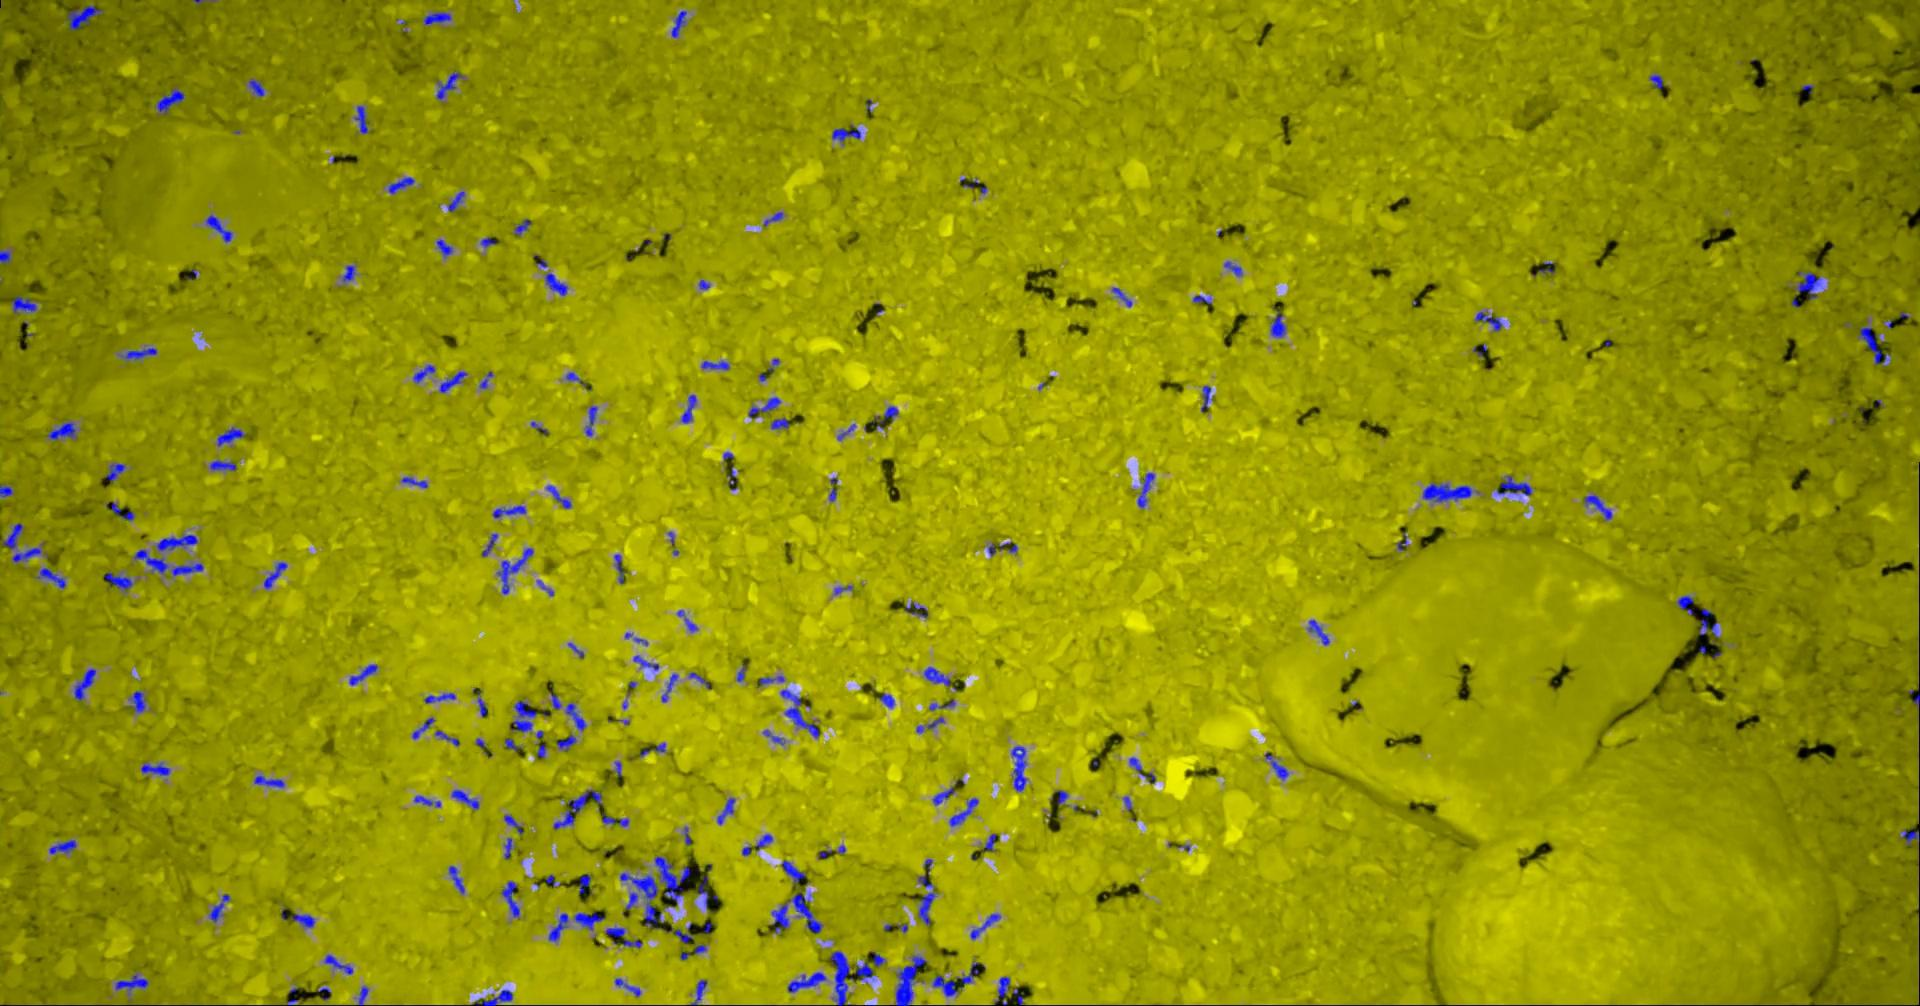ant: (621, 873, 665, 929), (782, 688, 822, 737), (555, 789, 603, 828), (935, 962, 985, 996), (498, 547, 535, 594), (657, 856, 692, 903), (897, 955, 928, 1005), (789, 893, 824, 932), (830, 950, 855, 1005), (1860, 326, 1891, 366), (65, 4, 104, 29), (1423, 483, 1473, 500), (135, 549, 170, 573), (951, 796, 979, 826), (789, 972, 828, 992), (157, 86, 185, 114), (207, 213, 234, 243), (513, 700, 538, 730), (971, 913, 1002, 939), (1012, 746, 1029, 791), (437, 72, 465, 99), (1585, 494, 1613, 520), (1498, 475, 1533, 495), (157, 533, 199, 550), (75, 668, 97, 700), (1130, 757, 1157, 782), (1799, 271, 1823, 298), (698, 875, 719, 907), (872, 405, 899, 429), (1266, 752, 1290, 779), (38, 567, 67, 588), (783, 859, 808, 884), (265, 561, 288, 588), (503, 882, 521, 916), (750, 398, 782, 417), (441, 371, 469, 392), (210, 893, 231, 921), (1700, 608, 1721, 638), (547, 485, 573, 508), (350, 664, 378, 685), (326, 954, 354, 974), (1139, 473, 1156, 507), (919, 892, 937, 923), (477, 989, 514, 1005), (218, 427, 248, 446), (107, 500, 136, 520), (105, 572, 135, 591), (1, 523, 24, 547), (1309, 619, 1331, 644), (117, 973, 150, 989), (924, 666, 951, 686), (1476, 311, 1503, 330), (568, 702, 587, 730), (550, 913, 569, 941), (546, 272, 569, 295), (453, 789, 480, 808), (773, 902, 790, 932), (575, 912, 606, 929), (50, 422, 77, 439), (719, 796, 737, 824), (413, 716, 436, 738), (833, 124, 862, 141), (616, 978, 643, 996), (663, 673, 679, 701), (450, 865, 466, 893), (13, 295, 38, 312), (683, 394, 698, 423), (996, 976, 1011, 1005), (672, 10, 688, 37), (390, 177, 417, 193), (123, 347, 157, 359), (13, 547, 43, 561), (692, 979, 709, 1005), (935, 786, 956, 805), (989, 541, 1018, 555), (130, 690, 147, 713), (918, 716, 945, 732), (173, 563, 204, 575), (356, 105, 370, 133), (50, 840, 77, 854), (667, 929, 695, 942), (1114, 287, 1133, 307), (1272, 311, 1288, 337), (255, 775, 286, 788), (505, 814, 524, 835), (414, 365, 436, 382), (105, 464, 127, 481), (494, 506, 527, 517), (483, 533, 499, 556), (587, 406, 599, 436), (142, 762, 171, 775), (905, 602, 930, 617), (436, 730, 460, 746), (425, 11, 453, 24), (635, 655, 660, 669), (641, 742, 667, 756), (1203, 385, 1215, 412), (450, 191, 466, 211), (1679, 594, 1695, 615), (764, 729, 786, 744), (425, 692, 457, 702), (293, 913, 316, 927), (857, 962, 875, 979), (1903, 829, 1920, 848), (764, 211, 785, 226), (615, 553, 625, 583), (557, 734, 578, 749), (415, 795, 442, 807), (603, 814, 630, 826), (516, 218, 533, 235), (438, 239, 455, 257), (757, 833, 775, 850), (1910, 683, 1920, 711), (250, 79, 265, 97), (1225, 260, 1243, 276), (703, 359, 730, 370), (211, 460, 237, 470), (403, 476, 429, 486), (983, 833, 998, 851), (477, 691, 488, 716), (880, 692, 897, 708), (761, 674, 786, 683), (550, 691, 563, 709), (505, 738, 523, 751), (772, 417, 791, 428), (580, 874, 592, 893), (830, 478, 839, 500), (627, 892, 639, 909), (1651, 74, 1665, 88), (623, 937, 643, 948), (874, 951, 886, 967), (361, 984, 370, 1005), (1540, 262, 1556, 273), (344, 265, 356, 281), (1194, 295, 1213, 304), (607, 927, 626, 936), (1015, 988, 1025, 1005), (505, 837, 513, 859), (1, 249, 13, 263), (1, 484, 14, 495), (483, 236, 497, 246)
